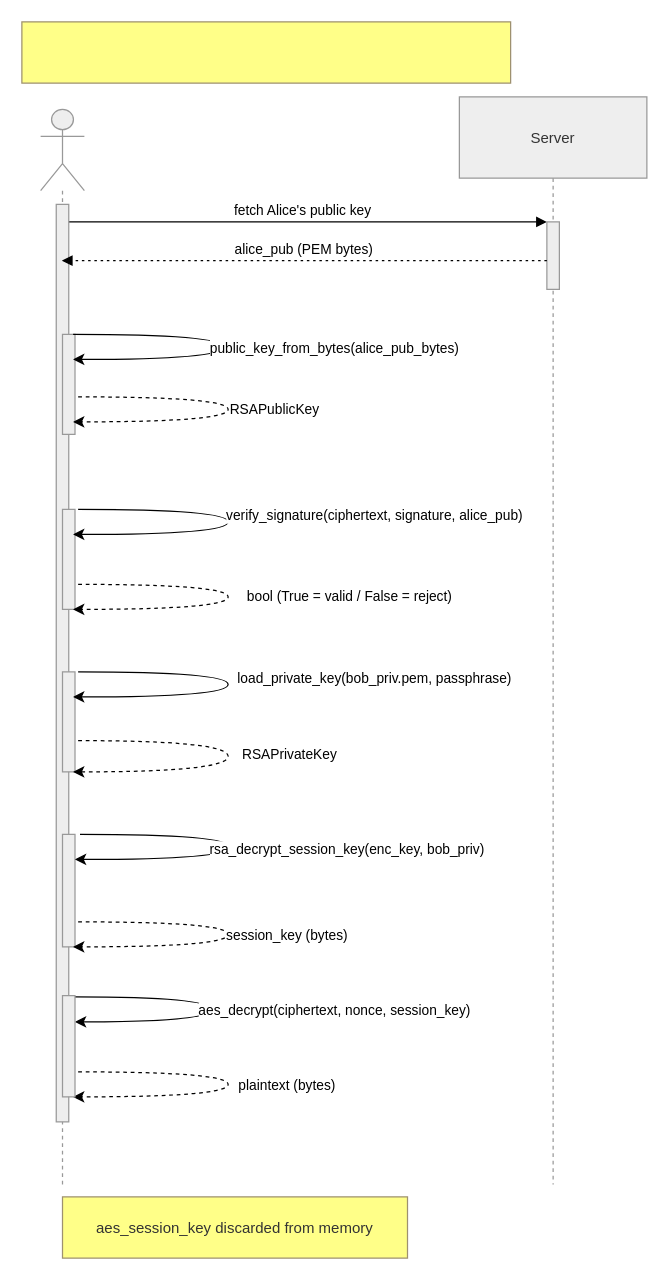
The diagram is 669 pixels wide and 1280 high, and some of its shapes have lost their labels. Each missing label, with the centre of its shape:
"Bob" belongs at point 61,646.
"BOB DECRYPTS" belongs at point 266,52.
